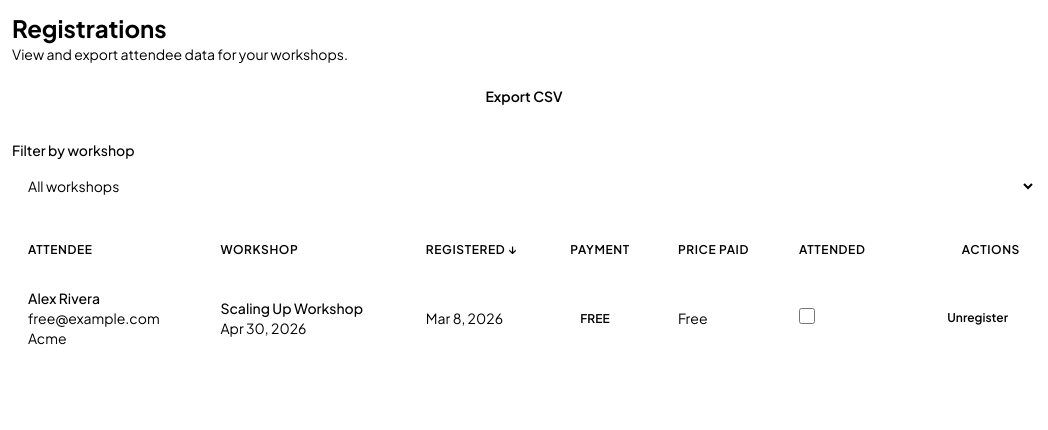
RegistrationsClient › keeps direct delete for unpaid registrations
Click the button "Unregister" at (978,318), box x1=935 y1=302 x2=1020 y2=334
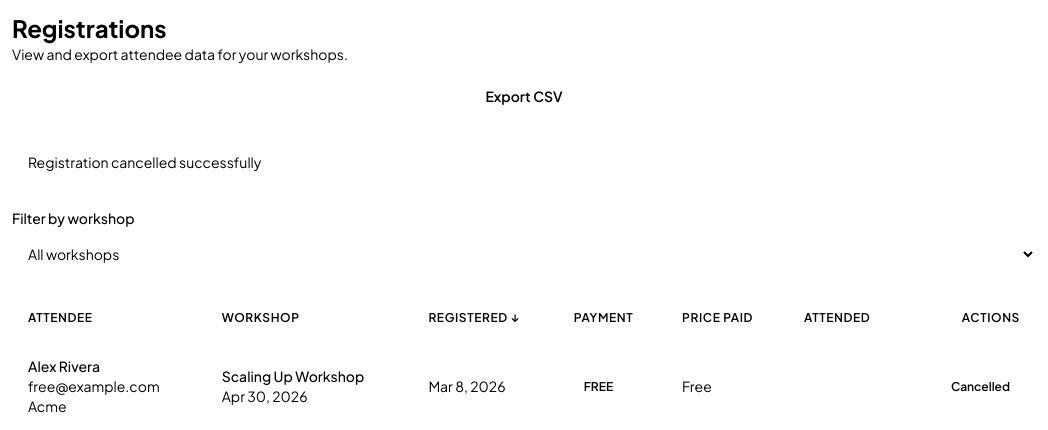
expect the text "Cancelled" is shown: met, box x1=951 y1=379 x2=1010 y2=394
